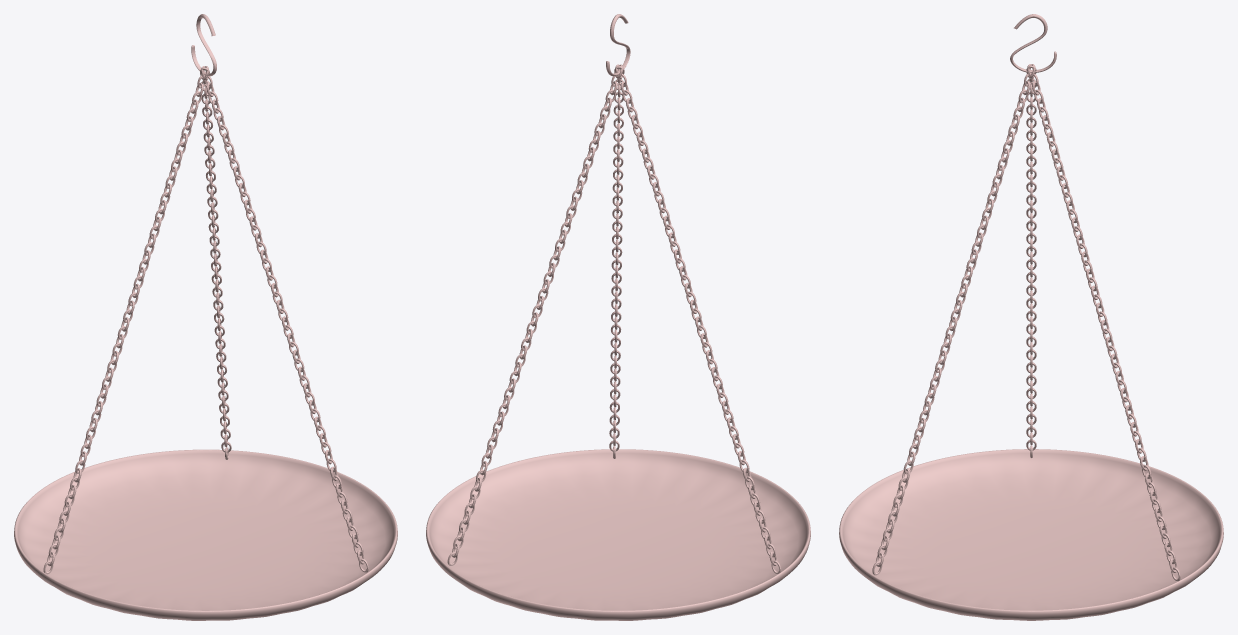
Rendered from scale.fbx.
3 views of the same model, side by side, from view 1: azimuth 30°, elevation 25°; view 2: azimuth 150°, elevation 25°; view 3: azimuth 270°, elevation 25° (orthographic).
Parts seen in each view (by area): view 1: Circle.001; view 2: Circle.001; view 3: Circle.001.
Part boxes in pixels (bbox=[...]): Circle.001: bbox=[14, 14, 397, 620]; Circle.001: bbox=[426, 14, 810, 620]; Circle.001: bbox=[839, 14, 1223, 620].
Size of the model in its own units: 205 by 319 by 205.
